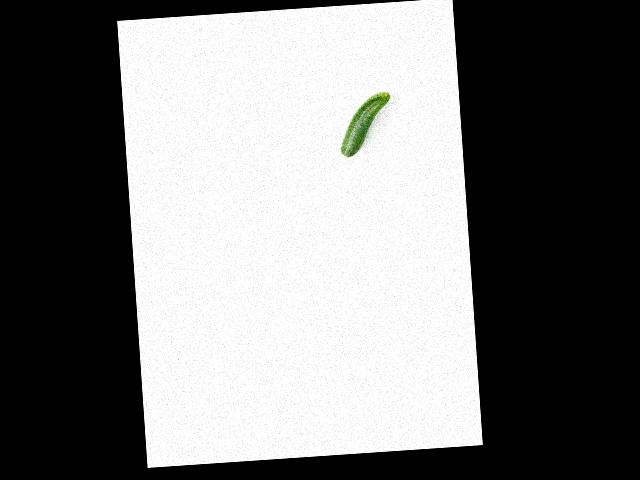cucumber: (337, 91, 394, 157)
